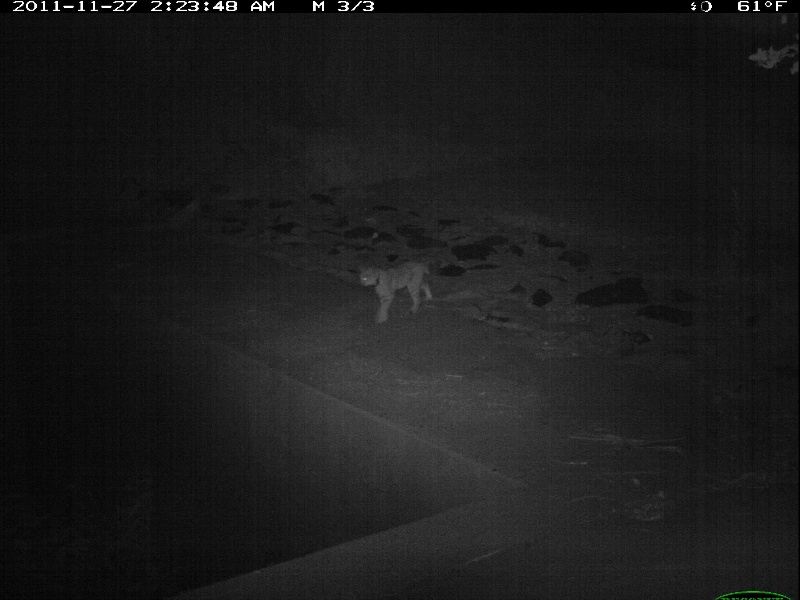cat: (358, 258, 433, 323)
